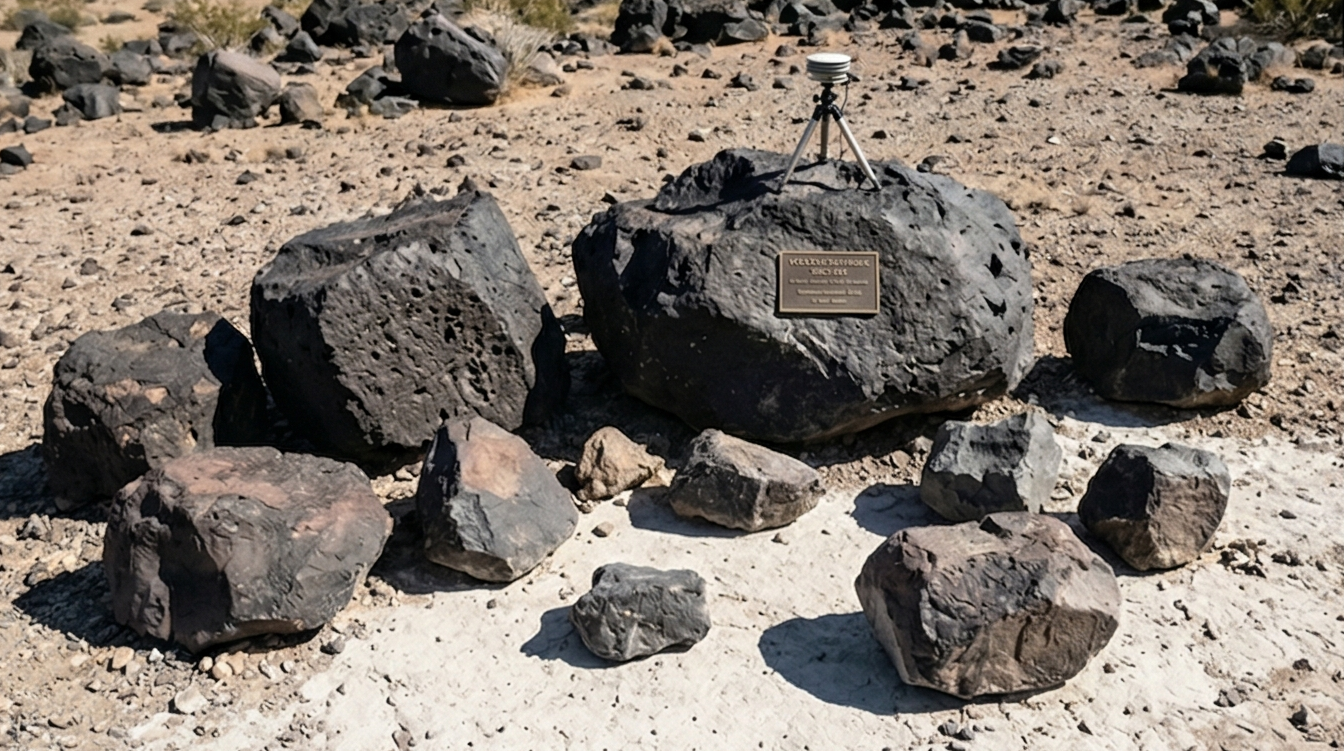rocks: (45, 188, 578, 651), (573, 150, 1032, 530), (857, 414, 1119, 697), (1065, 260, 1272, 407), (1079, 444, 1229, 569), (571, 563, 709, 660)
